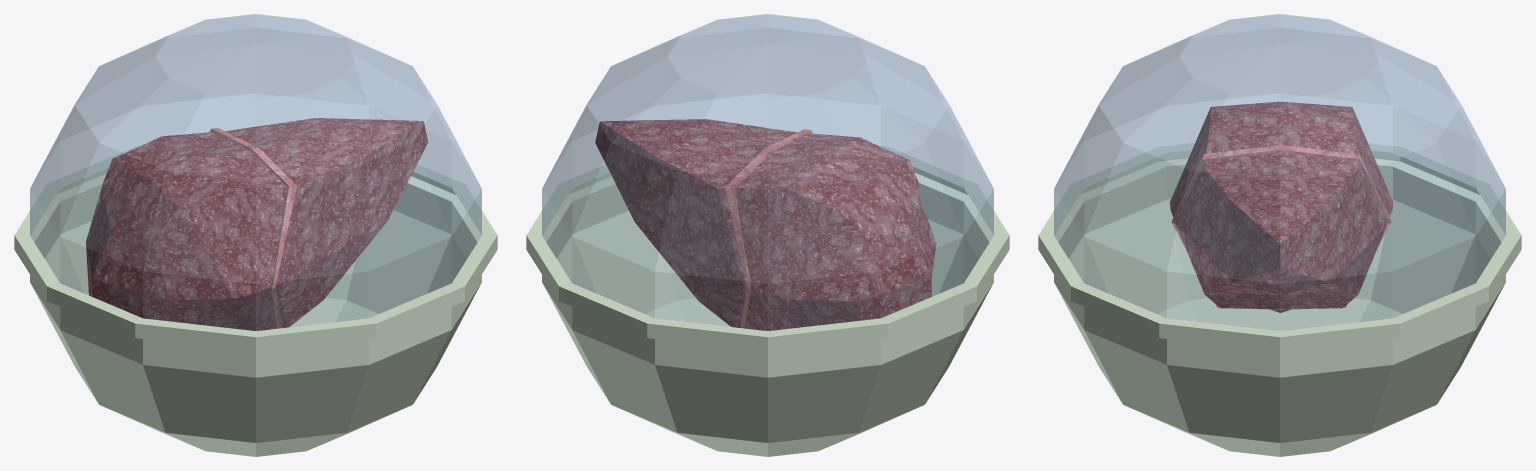
File: liverGacha.fbx
The picture shows the model from 3 angles, left to right: view 1: azimuth 30°, elevation 25°; view 2: azimuth 150°, elevation 25°; view 3: azimuth 270°, elevation 25°; orthographic projection.
Visible parts, largest first — view 1: Top, Sphere, Liver; view 2: Top, Sphere, Liver; view 3: Top, Sphere, Liver.
Part boxes in pixels (left/top/right/bottom): Top: left=30, top=14, right=481, bottom=330; Sphere: left=14, top=146, right=497, bottom=456; Liver: left=86, top=118, right=427, bottom=330; Top: left=542, top=14, right=993, bottom=330; Sphere: left=526, top=146, right=1009, bottom=456; Liver: left=595, top=119, right=936, bottom=330; Top: left=1054, top=14, right=1505, bottom=330; Sphere: left=1038, top=143, right=1521, bottom=456; Liver: left=1170, top=101, right=1392, bottom=312.
Size of the model in its own units: 295 by 257 by 295.
